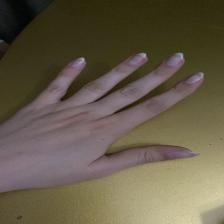five: (19, 51, 208, 187)
